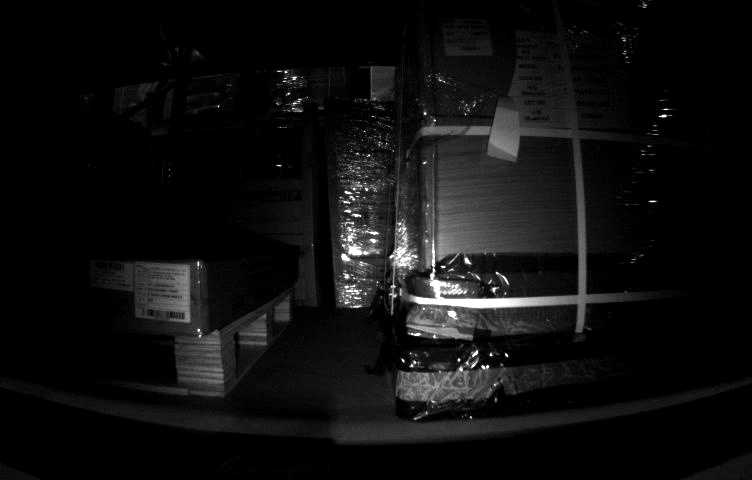True Barcode: (444, 16, 493, 57)
